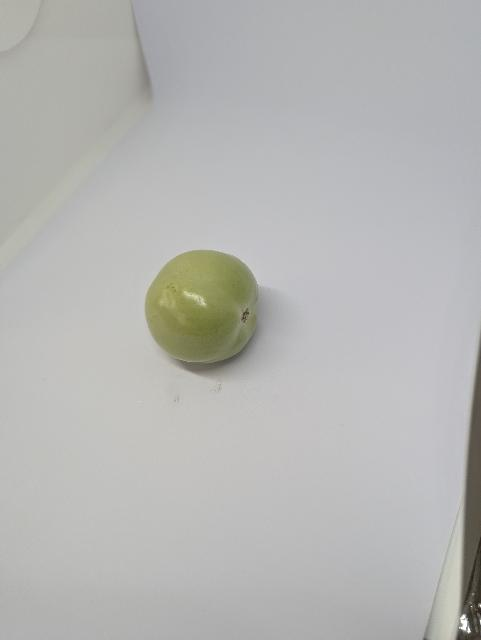green: (144, 249, 261, 366)
